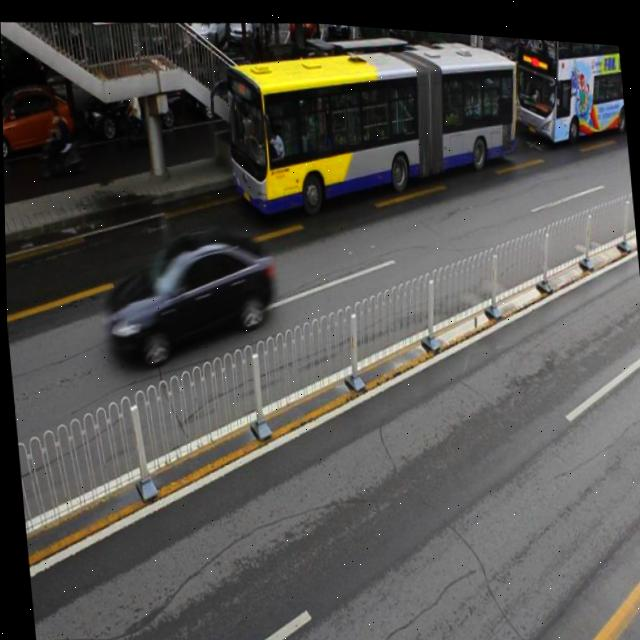car: (97, 214, 280, 367), (78, 59, 182, 137), (1, 81, 76, 163), (276, 40, 359, 112), (189, 46, 266, 122)
van: (221, 19, 526, 216), (510, 30, 627, 140)
